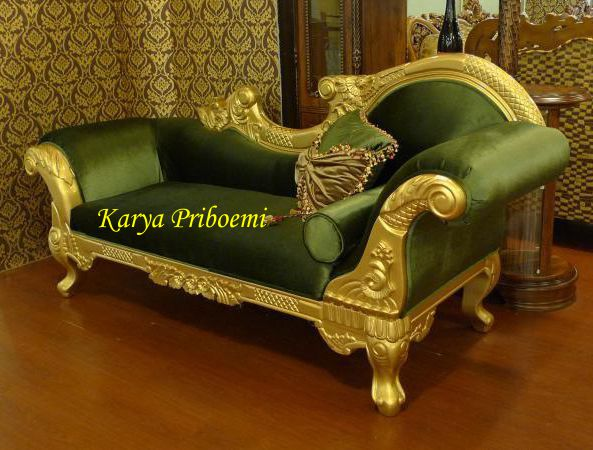Carving Chair: (46, 72, 554, 394)
